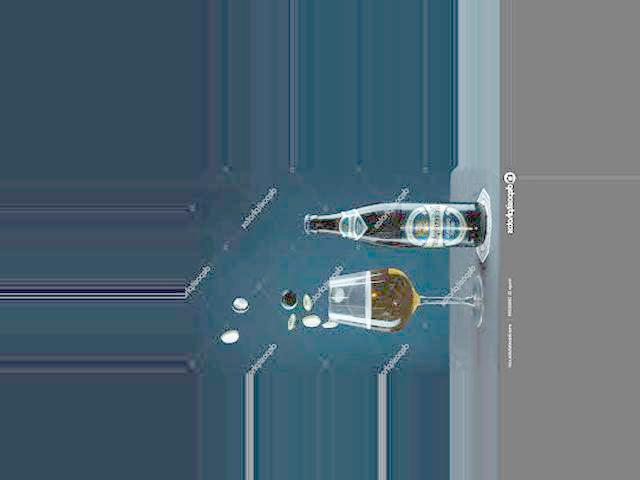beer: (306, 203, 484, 246)
